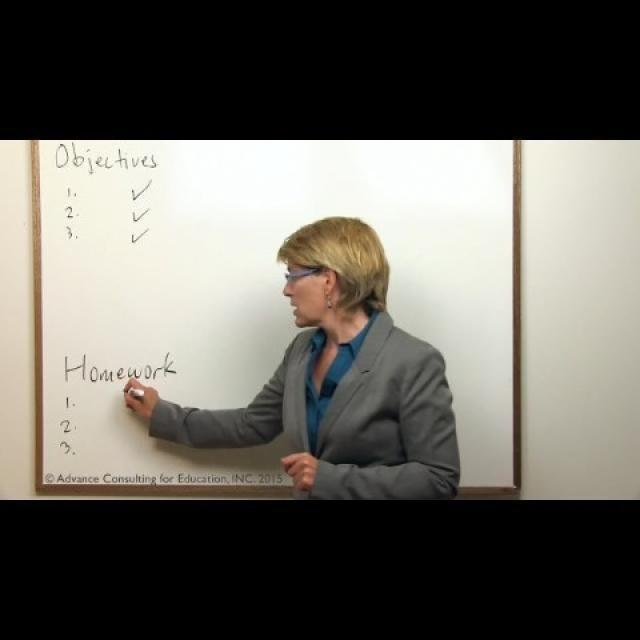Instructor: (272, 210, 446, 514)
White-board: (36, 138, 522, 490)
